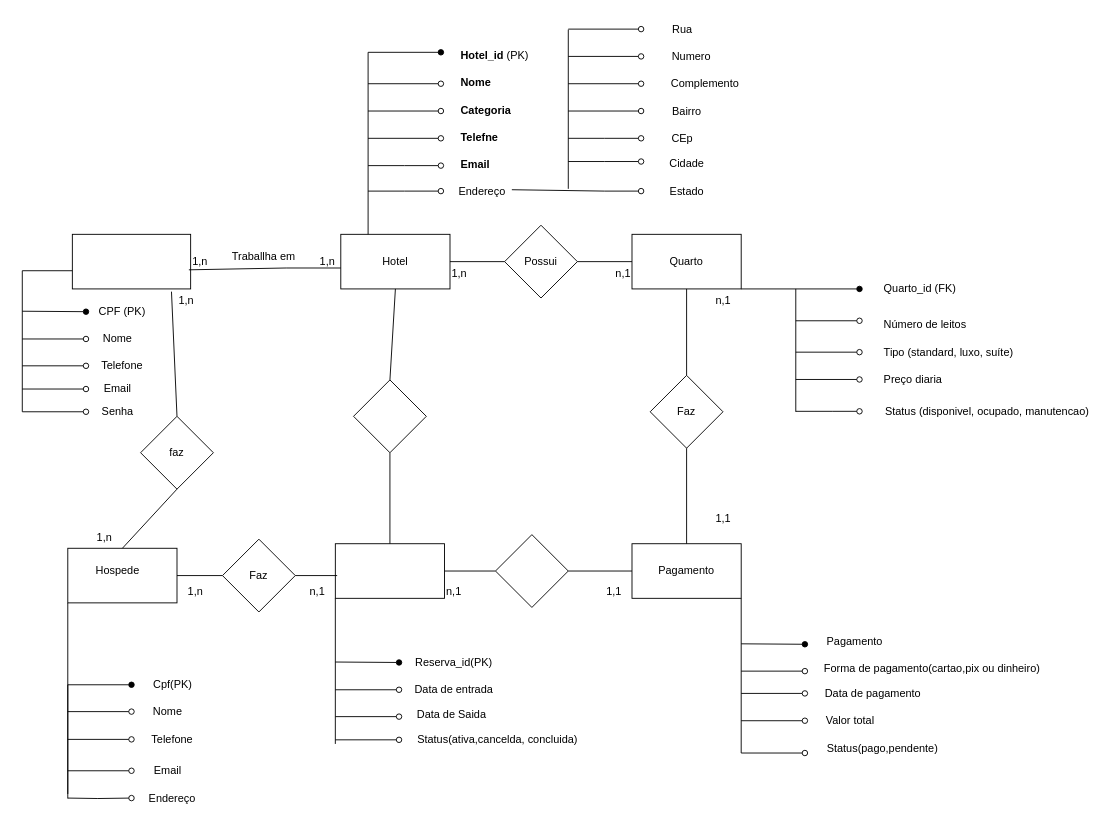
This 1117x827 diagram has some shape labels left out. The box of each missing label's shape, as (x1, y1, x2, y2) in pixels:
Contem: (353, 379, 426, 453)
Funcionario: (71, 233, 191, 289)
Gera: (495, 534, 568, 607)
Reserva: (334, 543, 445, 598)
